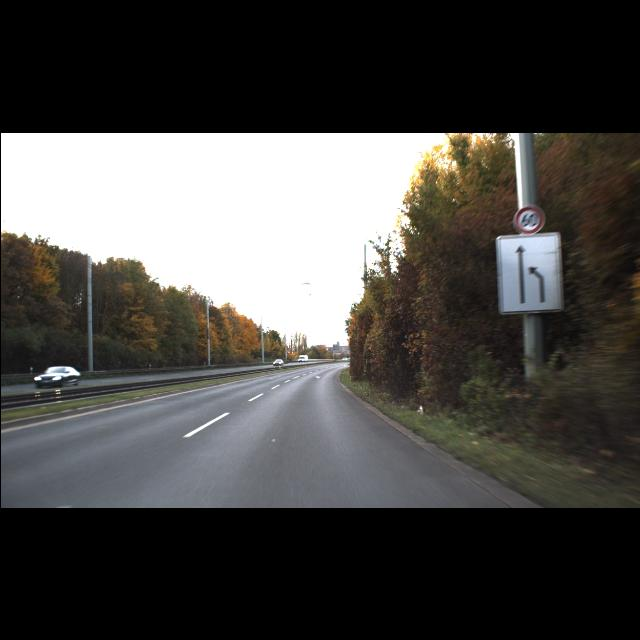prohibitory: (514, 204, 544, 234)
